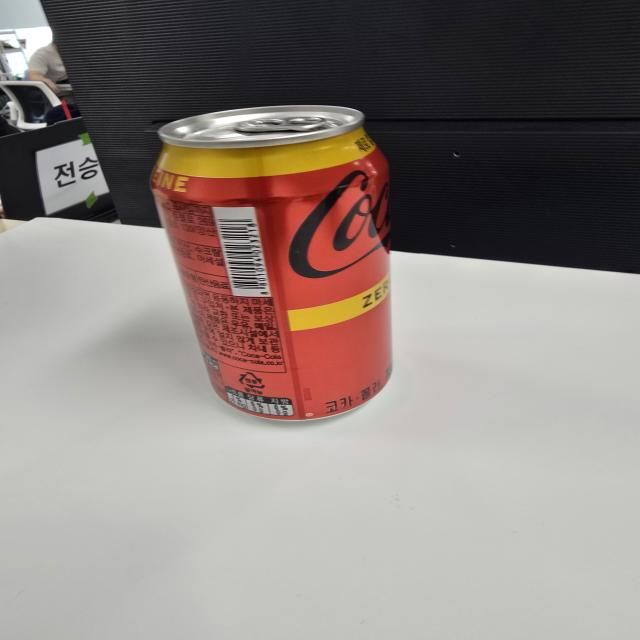can_coke_decaf: (150, 105, 392, 421)
